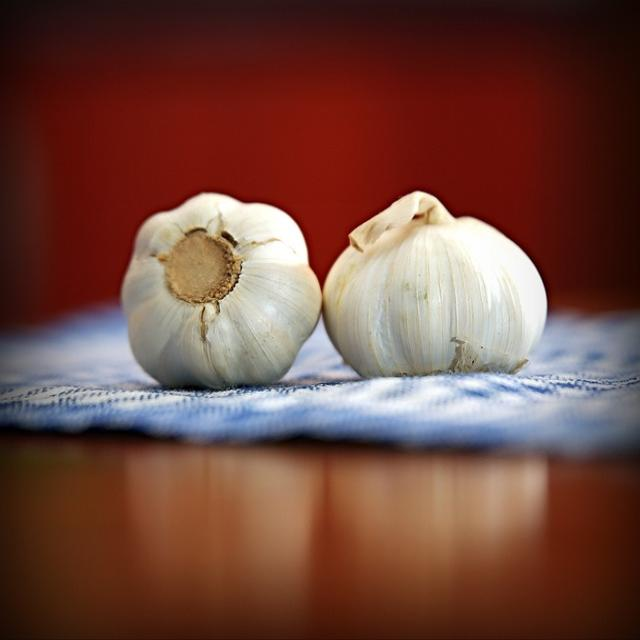garlic: (322, 191, 546, 377), (121, 193, 321, 389)
